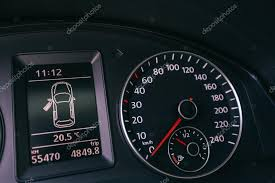Digital_Meter: (34, 140, 104, 170)
